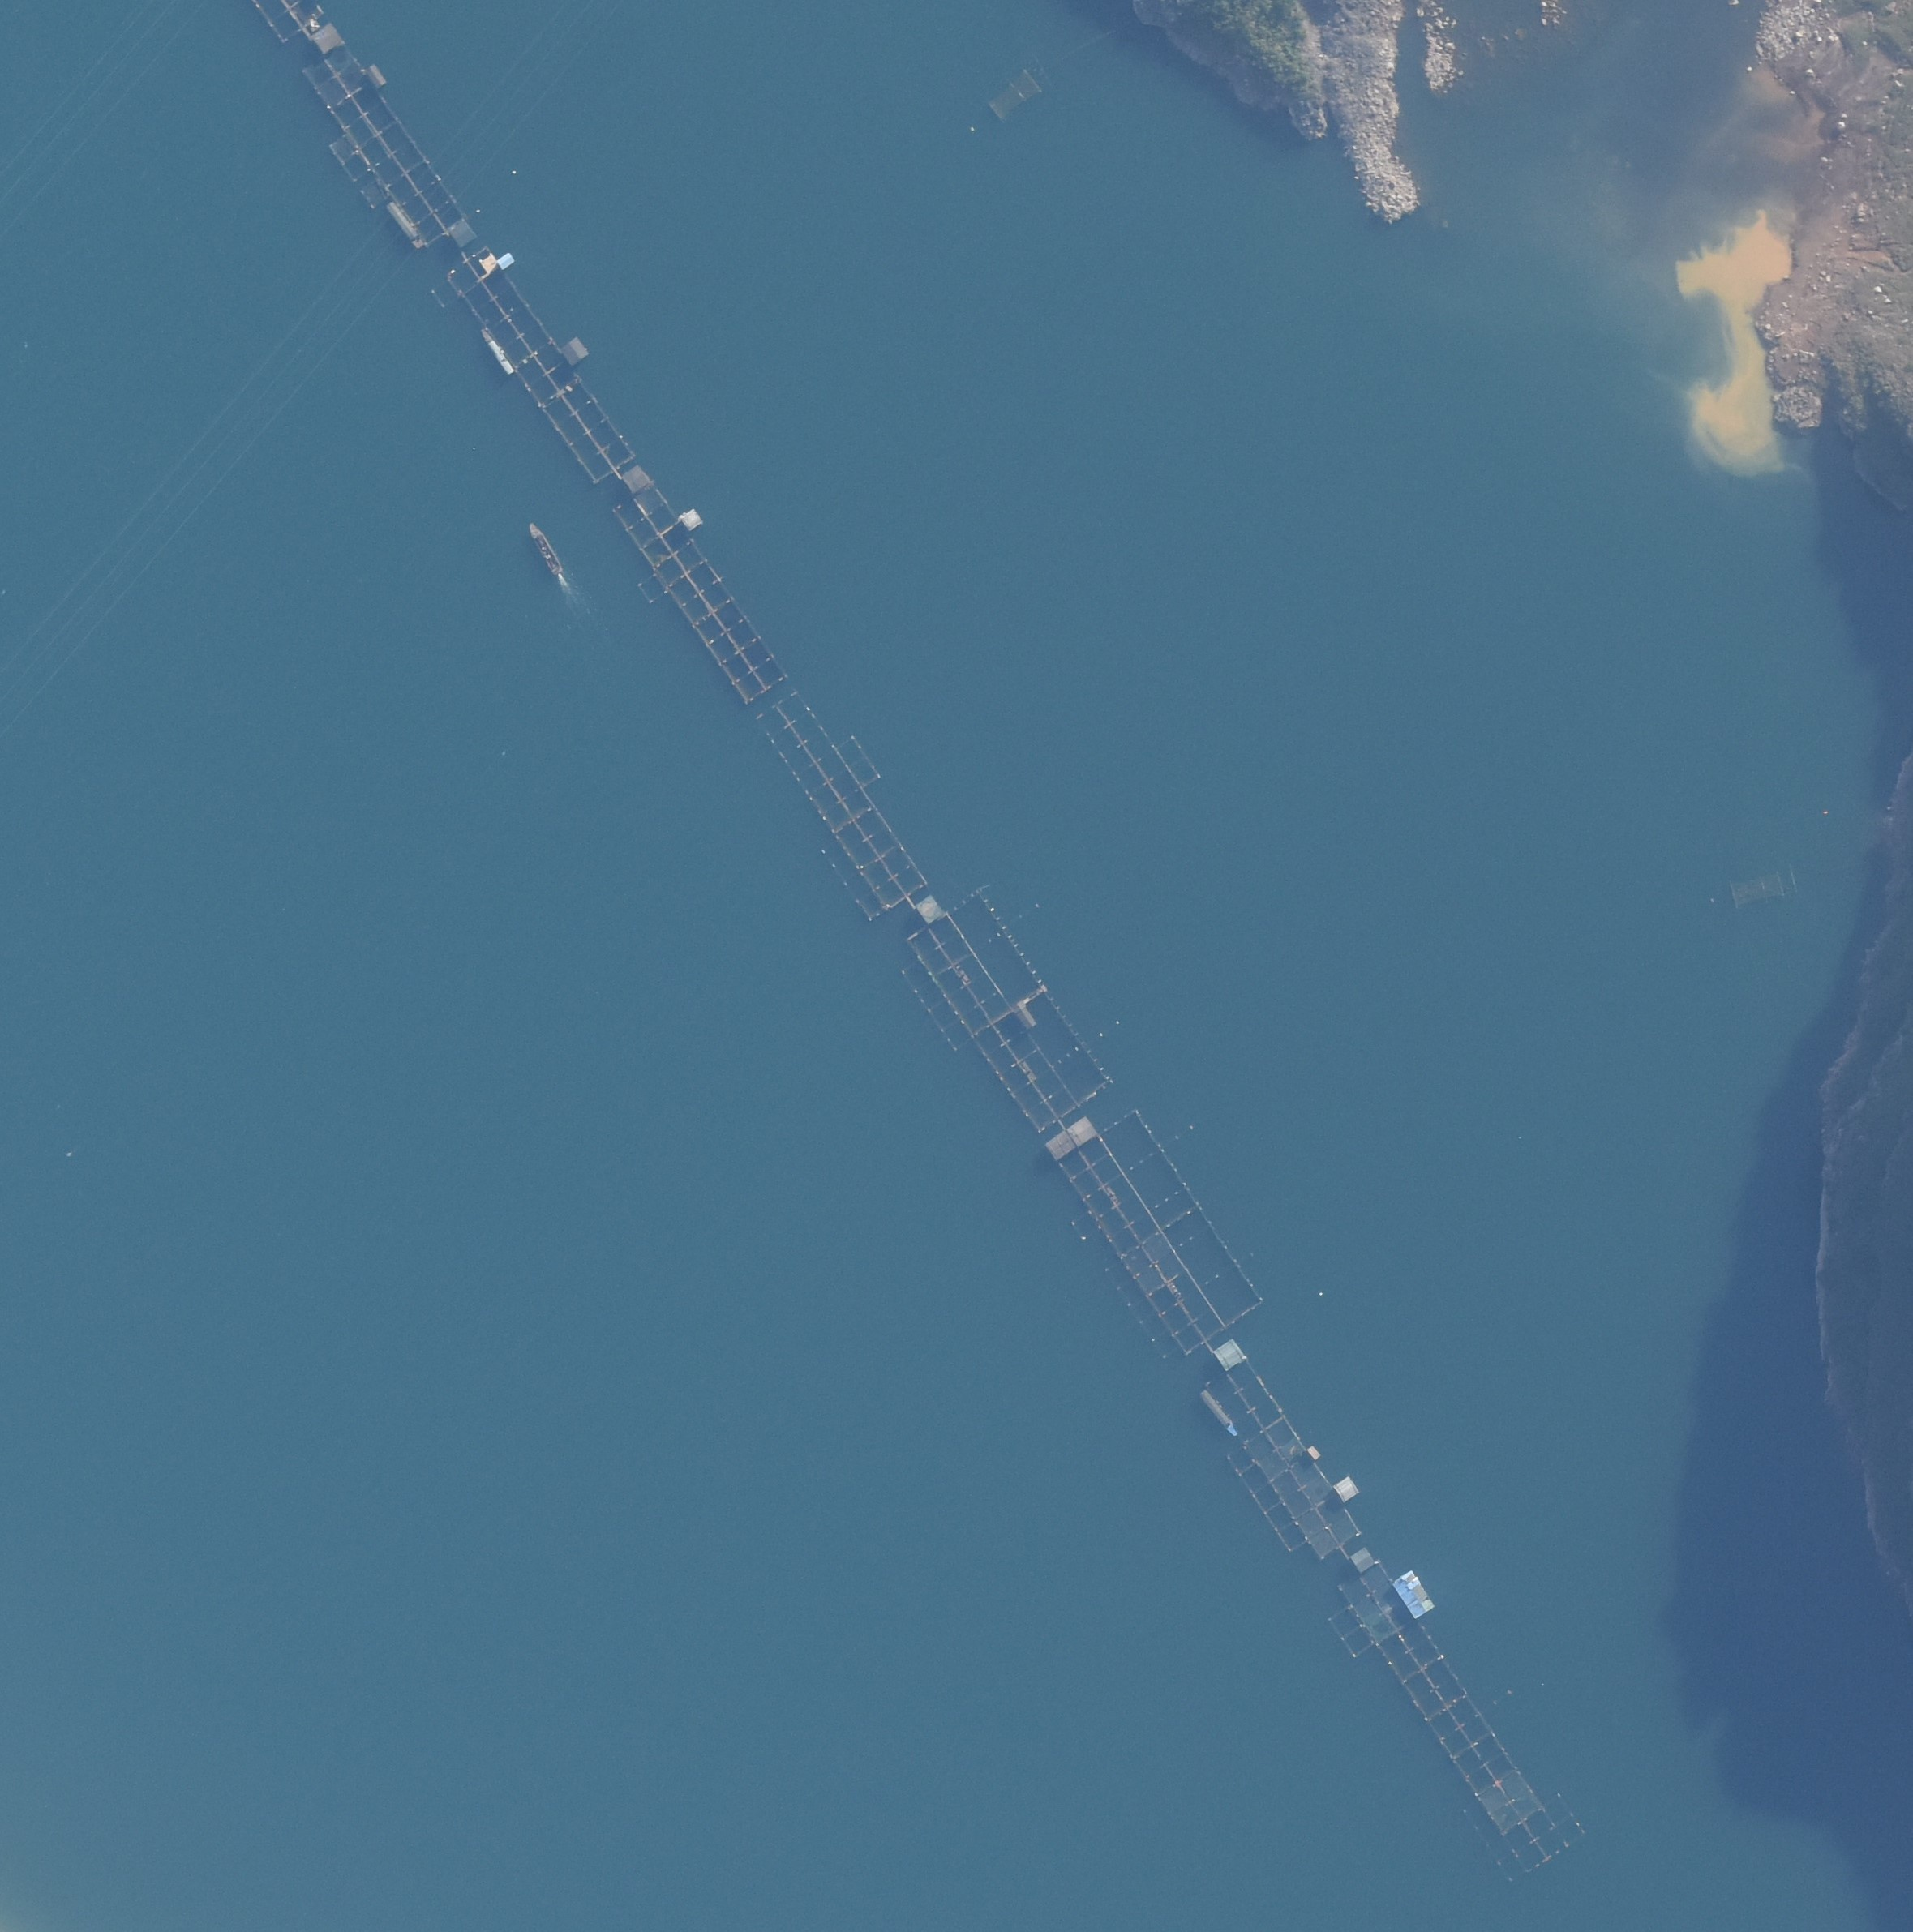cultivation-mesh-cage: (1328, 1561, 1587, 1885), (904, 886, 1112, 1135), (1058, 1111, 1263, 1361), (429, 245, 636, 483), (757, 690, 928, 920), (613, 483, 788, 706), (301, 44, 476, 250), (252, 2, 324, 46)
prefabricated-house: (1391, 1569, 1438, 1618), (1046, 1116, 1095, 1161), (387, 201, 424, 249), (1211, 1338, 1247, 1371), (312, 21, 343, 54), (622, 464, 652, 497), (447, 217, 478, 247), (1331, 1477, 1361, 1505), (914, 895, 944, 923), (559, 336, 589, 364), (1011, 1000, 1039, 1028), (1349, 1547, 1373, 1573), (678, 508, 704, 531), (364, 65, 387, 88), (496, 252, 513, 270), (1307, 1445, 1321, 1459)
ship: (527, 520, 564, 578), (1200, 1387, 1239, 1436), (482, 328, 513, 375)
